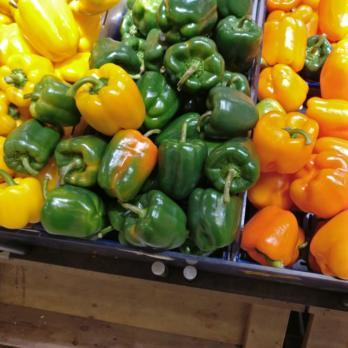Capsicum: (1, 3, 245, 246), (257, 3, 348, 271)
